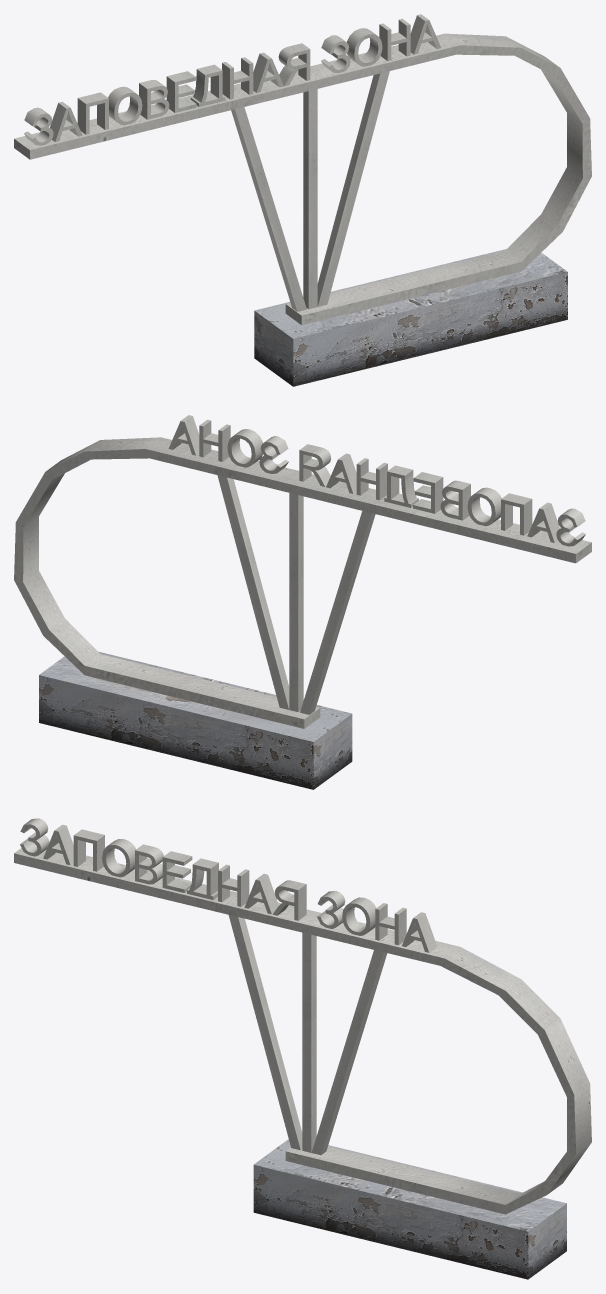
The model's file is r254_moskalenki_stella_1.fbx.
3 views of the same model, one above another, from view 1: azimuth 30°, elevation 25°; view 2: azimuth 150°, elevation 25°; view 3: azimuth 330°, elevation 25° (orthographic).
Visible parts, largest first — view 1: Box001; view 2: Box001; view 3: Box001.
Part boxes in pixels (box(x1,y1,x2,y2)): Box001: box(14, 14, 591, 386); Box001: box(14, 415, 591, 789); Box001: box(14, 818, 591, 1279).
Bounding box in the file's own units: 6139 × 3345 × 735.
